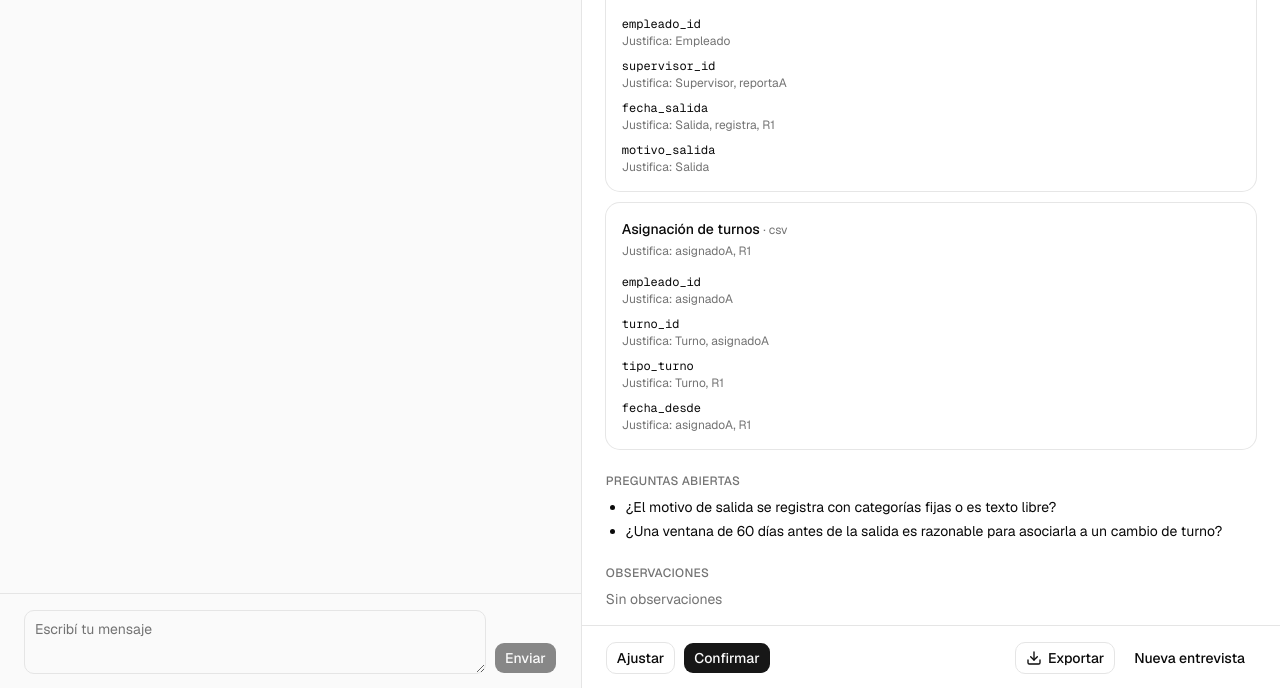
Composer › el snapshot lleva la versión vigente y la intención de ajuste
This screenshot has width=1280, height=688.
(page scrolled)
Click the button "Ajustar" at (641, 658), box [606, 642, 675, 674]
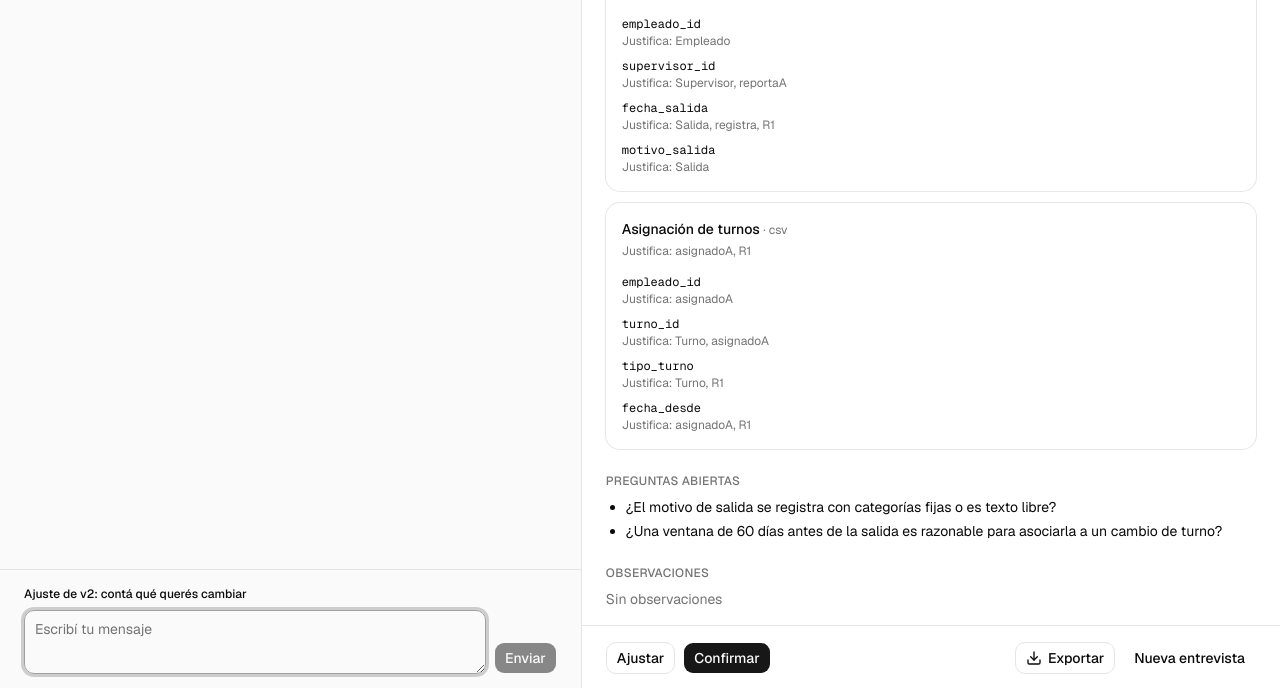
Type "El período empieza en marzo" into the text box at (255, 642), box [24, 610, 486, 674]
Then press Enter
(page scrolled)
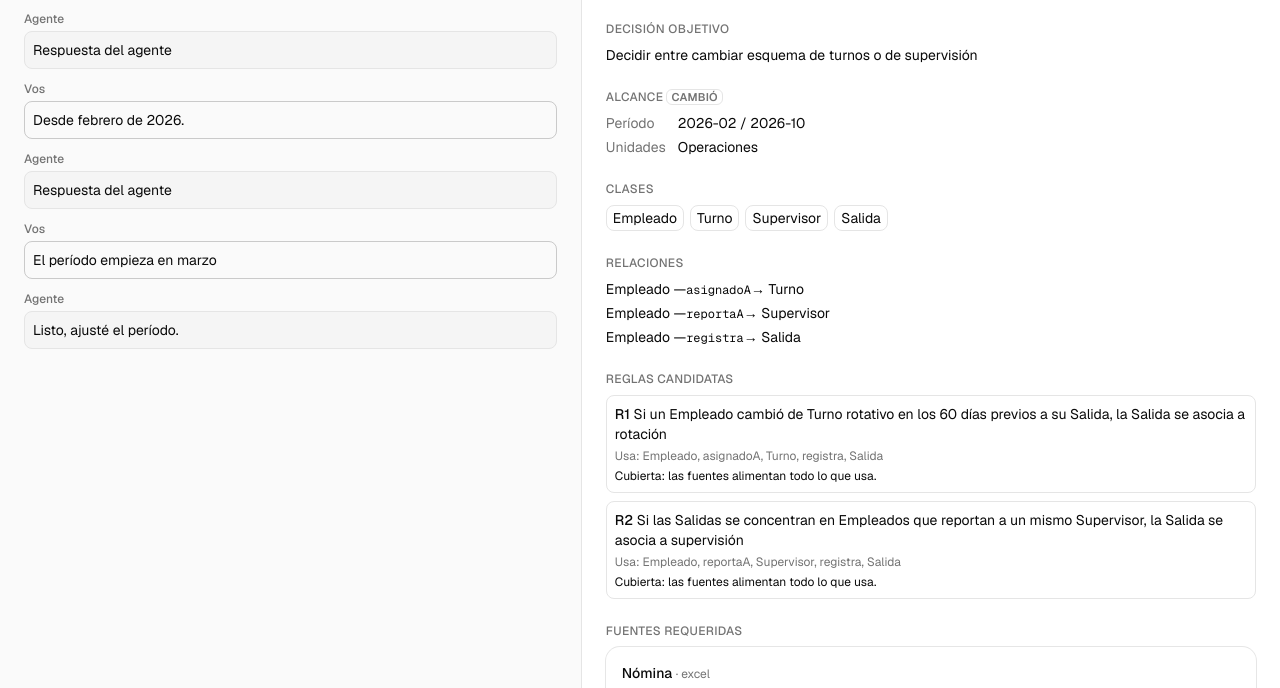
Expected: the text "Listo, ajusté el período." is shown, [33, 321, 179, 339]
